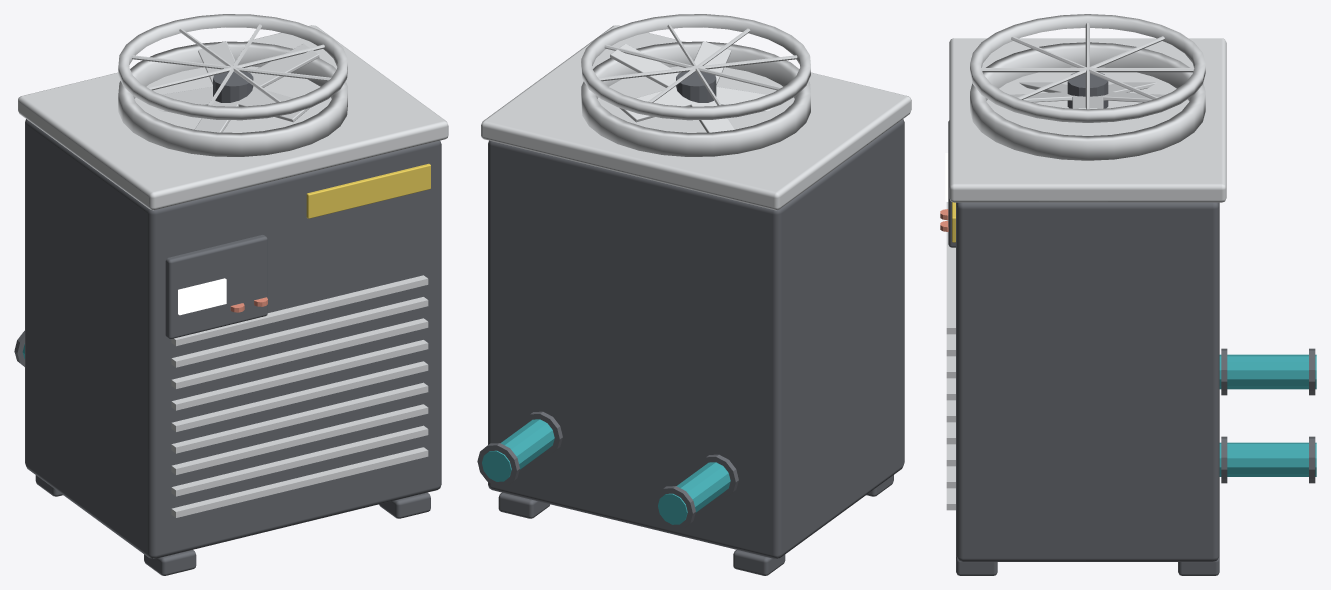
The model's file is public-aquarium-and-marine-centre-chiller-unit-b4168a97__34177.glb.
3 renders of one model, left to right at view 1: azimuth 30°, elevation 25°; view 2: azimuth 150°, elevation 25°; view 3: azimuth 270°, elevation 25°, orthographic. The views are drawn at different scales.
Visible parts, largest first — view 1: chiller-unit, fan/steel, fan/frame; view 2: chiller-unit, fan/steel, fan/frame; view 3: chiller-unit, fan/steel, fan/frame.
Boxes of the visible parts, left/top/right/bottom form: chiller-unit: left=14, top=14, right=448, bottom=575; fan/steel: left=155, top=41, right=319, bottom=132; fan/frame: left=213, top=71, right=253, bottom=102; chiller-unit: left=477, top=14, right=911, bottom=575; fan/steel: left=610, top=41, right=773, bottom=132; fan/frame: left=676, top=71, right=716, bottom=102; chiller-unit: left=940, top=14, right=1316, bottom=575; fan/steel: left=1010, top=82, right=1165, bottom=108; fan/frame: left=1067, top=72, right=1108, bottom=108.
Size of the model in its own units: 1.02 by 1.42 by 1.09.
